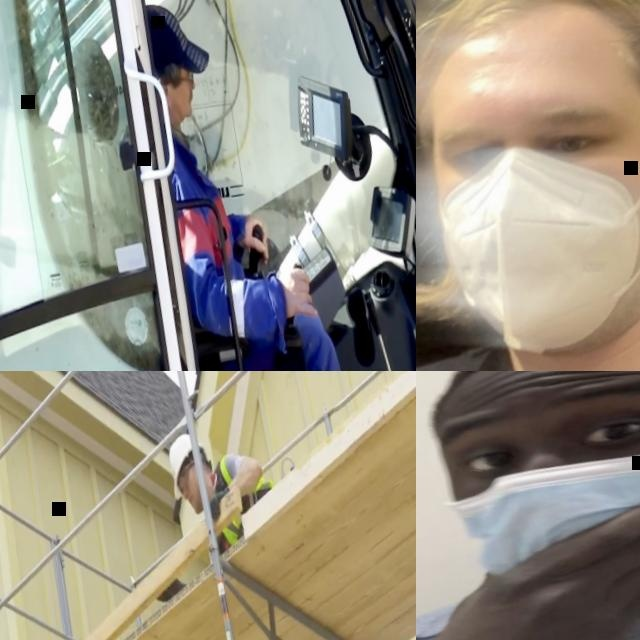Hardhat: (163, 430, 213, 500)
Mask: (451, 437, 640, 581)
NO-Hardhat: (416, 0, 640, 101), (416, 371, 640, 429), (141, 0, 192, 79)
NO-Mask: (433, 126, 640, 371), (168, 92, 196, 123), (185, 480, 202, 517)
NO-Safety Vest: (416, 515, 640, 640), (416, 274, 640, 371)
Person: (136, 0, 372, 371), (416, 0, 640, 371), (416, 371, 640, 640), (164, 418, 283, 557)
Safety Vest: (165, 145, 255, 350), (209, 446, 283, 546)
machinery: (0, 0, 416, 371)
